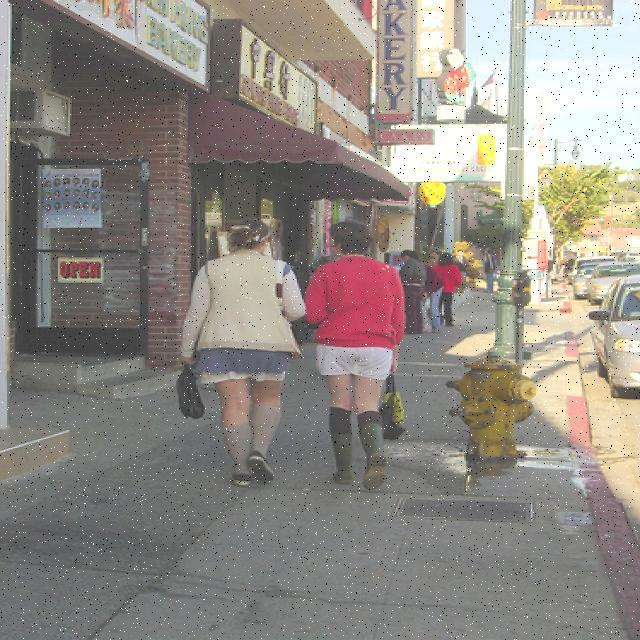fire_hydrant: (444, 348, 536, 461)
